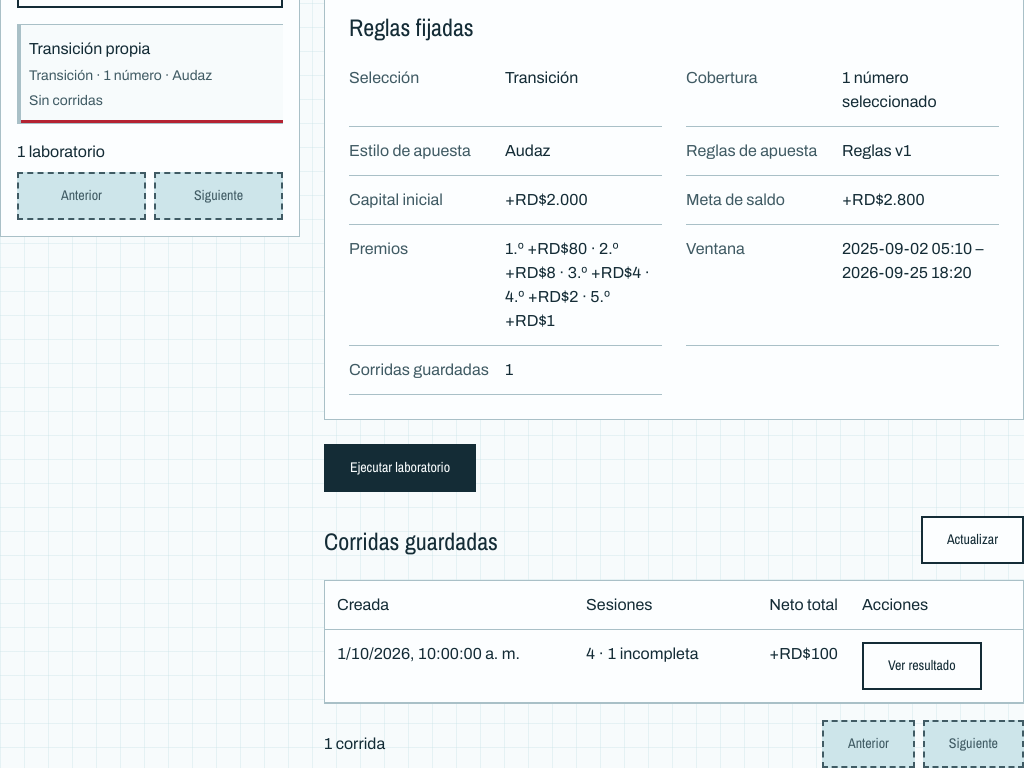
laboratory workspace › U5 preserves wallet totals while paging sessions without refetching the run
(page scrolled)
Click the button "Ver resultado".
click(922, 666)  # box x1=862 y1=642 x2=982 y2=690
(page scrolled)
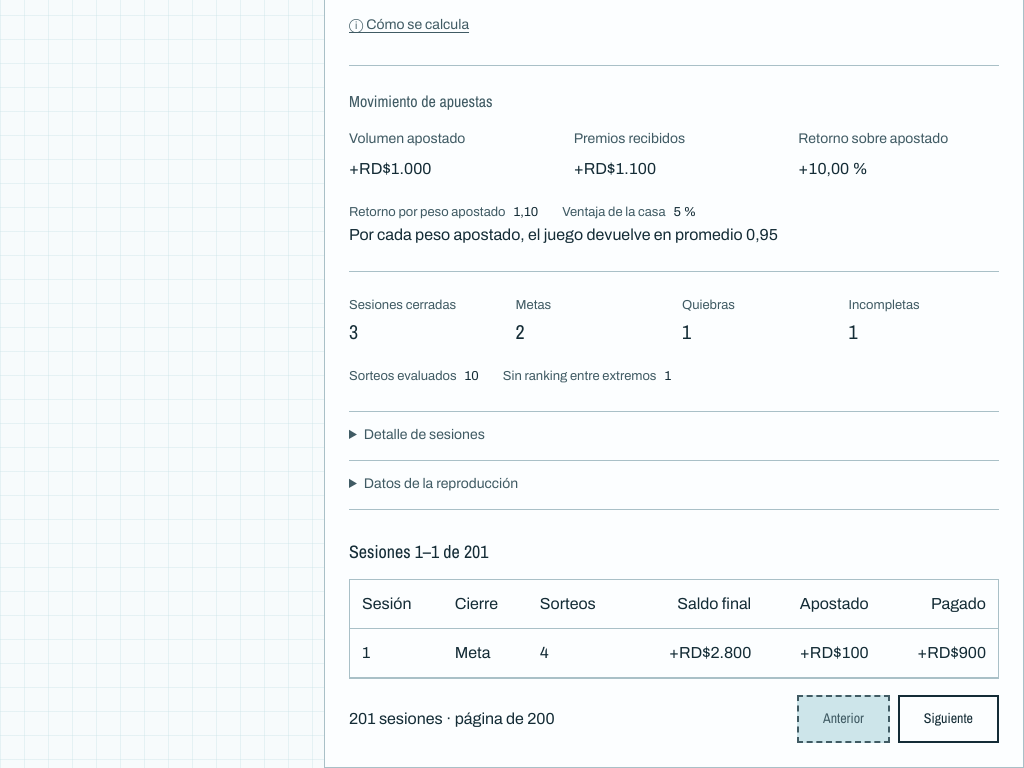
Expected: the element named "Resúmenes de sesiones" is shown, x1=349 y1=578 x2=999 y2=678
Click the button "Siguiente".
click(948, 718)  # box x1=898 y1=694 x2=999 y2=742
(page scrolled)
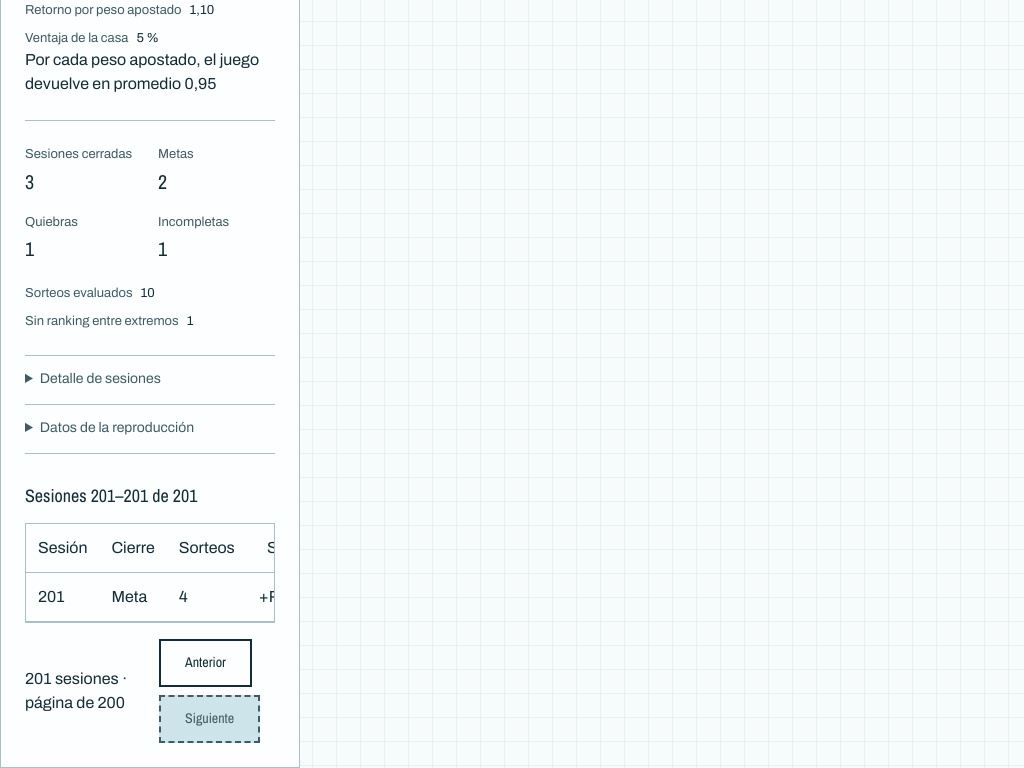
Expected: the heading "Sesiones 201–201 de 201" is shown, x1=25 y1=486 x2=197 y2=507
